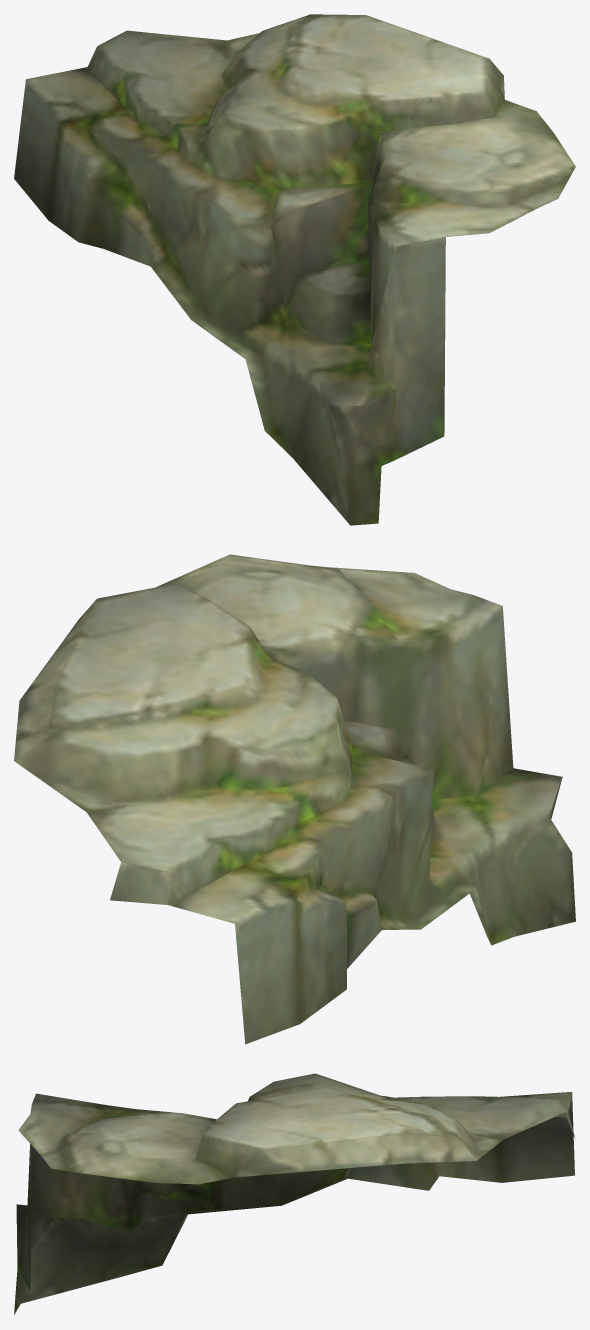
The model's file is S_Rock_Green050_A1.FBX.
3 views of the same model, one above another, from view 1: azimuth 30°, elevation 25°; view 2: azimuth 150°, elevation 25°; view 3: azimuth 270°, elevation 25° (orthographic). The views are drawn at different scales.
Visible parts, largest first — view 1: S_Rock_Green050_A1; view 2: S_Rock_Green050_A1; view 3: S_Rock_Green050_A1.
Boxes of the visible parts, box(x1,y1,x2,y2) form: S_Rock_Green050_A1: box(14, 14, 575, 525); S_Rock_Green050_A1: box(14, 554, 575, 1044); S_Rock_Green050_A1: box(14, 1073, 575, 1314).
Bounding box in the file's own units: 905 × 809 × 1503.
Materials: 1 (1 with a texture image).
